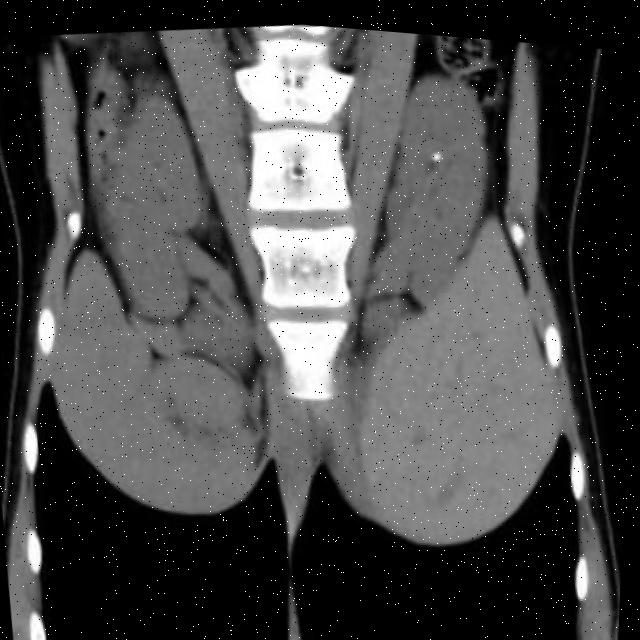Tas_Var: (422, 132, 451, 167)
